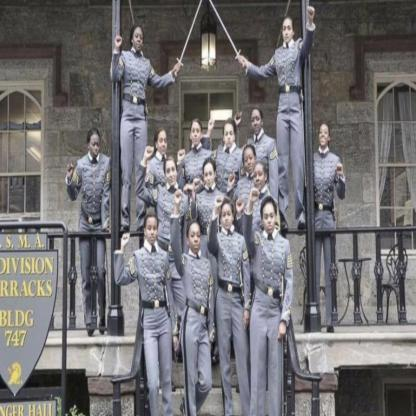fist: (111, 32, 123, 51), (142, 145, 154, 161), (225, 172, 236, 189), (173, 188, 184, 204), (249, 187, 260, 203), (176, 147, 186, 163), (190, 177, 202, 190), (206, 117, 215, 133), (235, 198, 244, 214), (305, 6, 315, 20), (213, 194, 223, 208), (233, 111, 242, 126), (334, 164, 344, 177), (66, 162, 74, 178), (120, 232, 129, 244)
